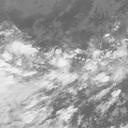cyclone: (43, 51, 97, 101)
